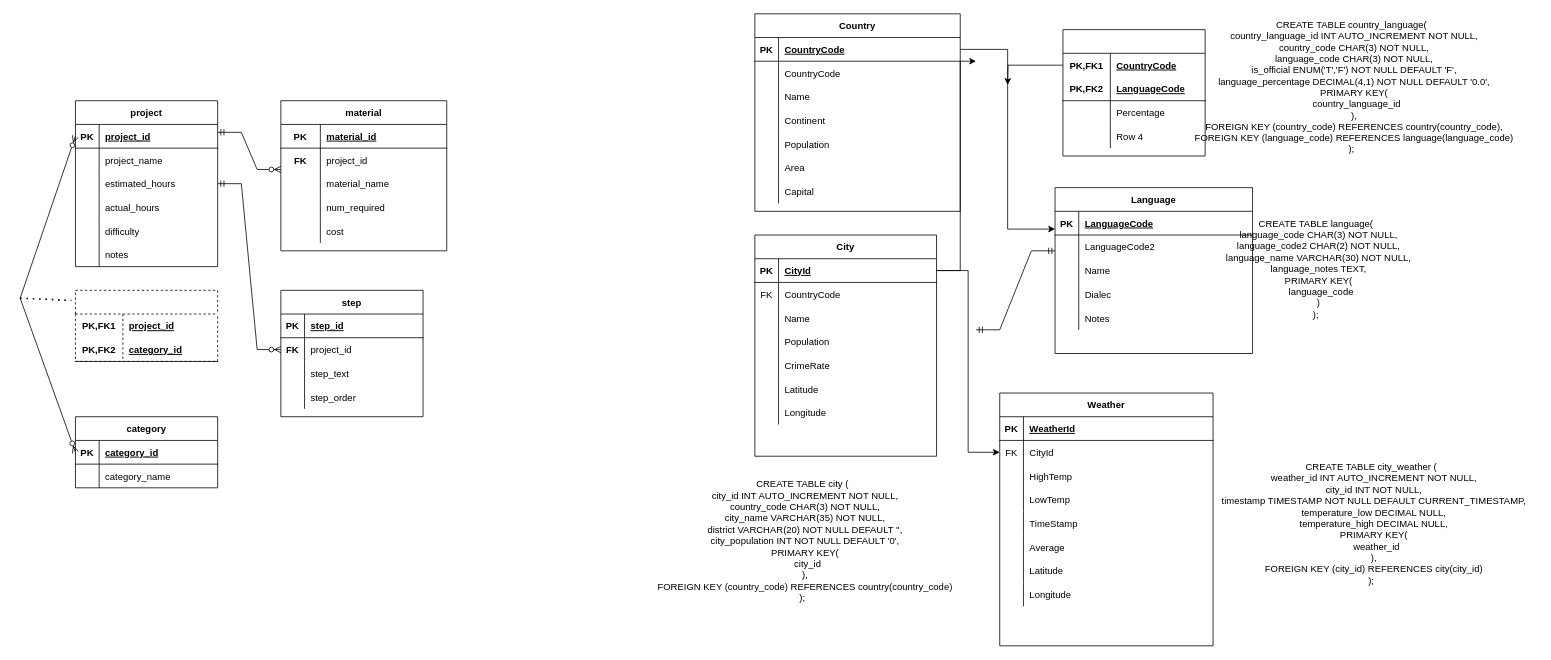
Image size: 1551x660. Some labels were removed from this diagram. The shapes that lost their labels are listed below. From the top down, each one's box as (x1, y1, x2, y2) in pixels, then its label:
(1062, 29, 1205, 156): CountryLanguage
(75, 290, 218, 361): project_category
